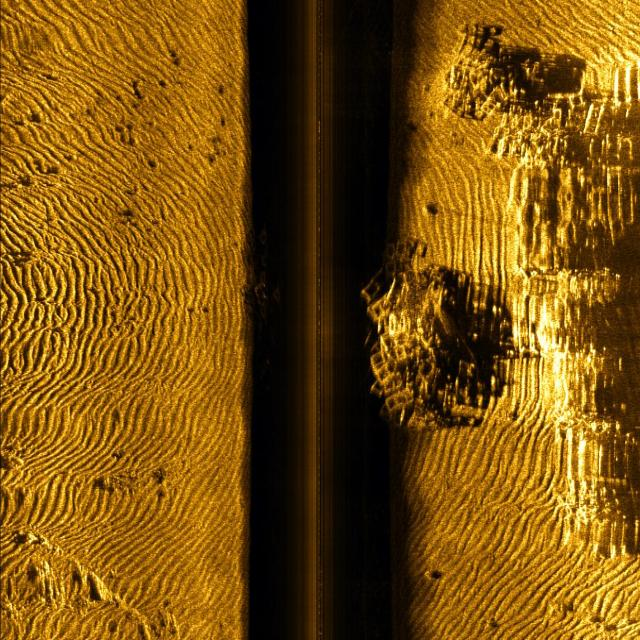artificial reef: (361, 225, 473, 421), (445, 41, 561, 172), (250, 222, 286, 343)
